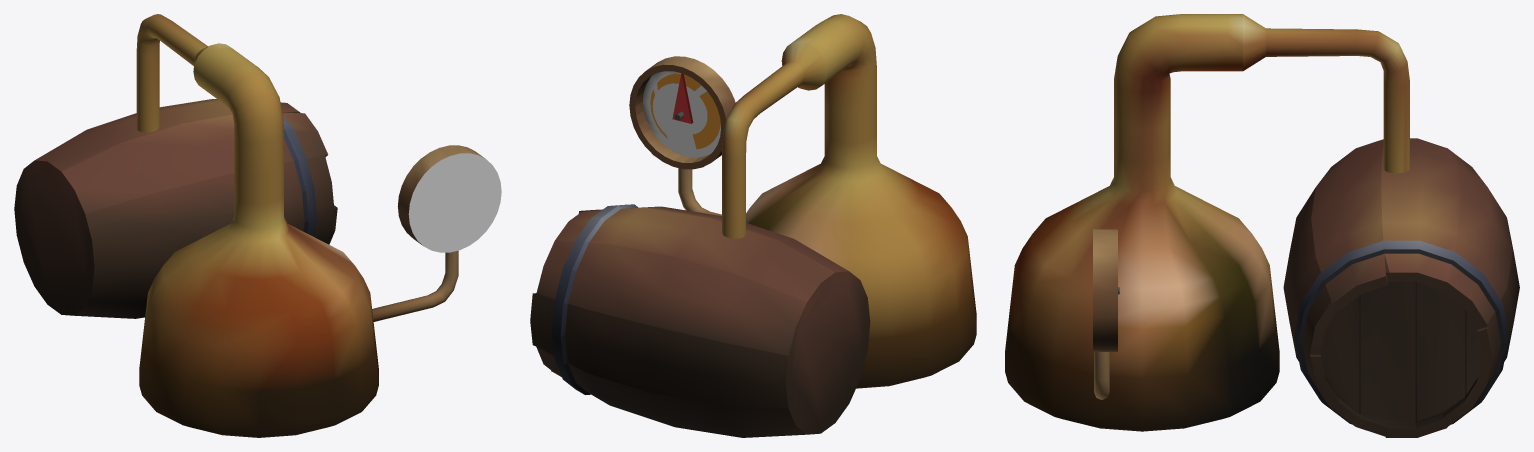
The model's file is MODEL_Destilary.fbx.
The picture shows the model from 3 angles, left to right: view 1: azimuth 30°, elevation 25°; view 2: azimuth 150°, elevation 25°; view 3: azimuth 270°, elevation 25°; orthographic projection. The views are drawn at different scales.
Visible parts, largest first — view 1: MESH_Destilary; view 2: MESH_Destilary, MESH_Arrow; view 3: MESH_Destilary.
Boxes of the visible parts, x1,y1,x2,y2 form: MESH_Destilary: [14, 14, 501, 437]; MESH_Destilary: [530, 14, 976, 437]; MESH_Arrow: [672, 73, 693, 123]; MESH_Destilary: [1005, 14, 1519, 437].
Bounding box in the file's own units: 520 × 482 × 620.
